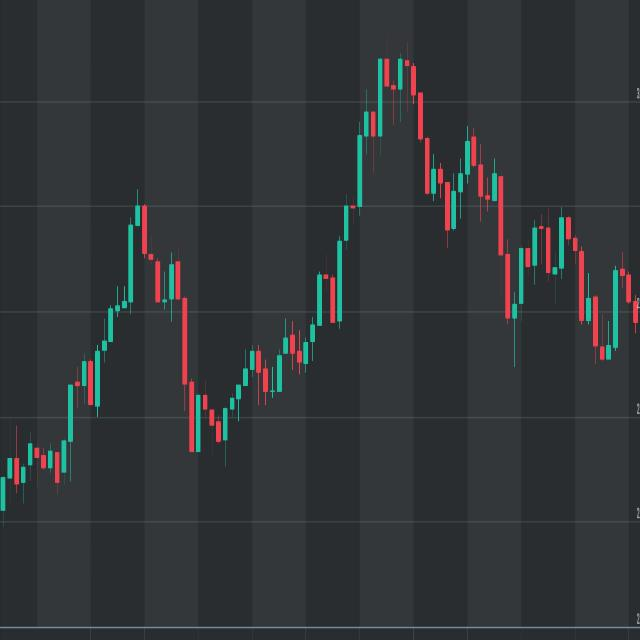Resistance-breakout: (76, 17, 453, 505)
